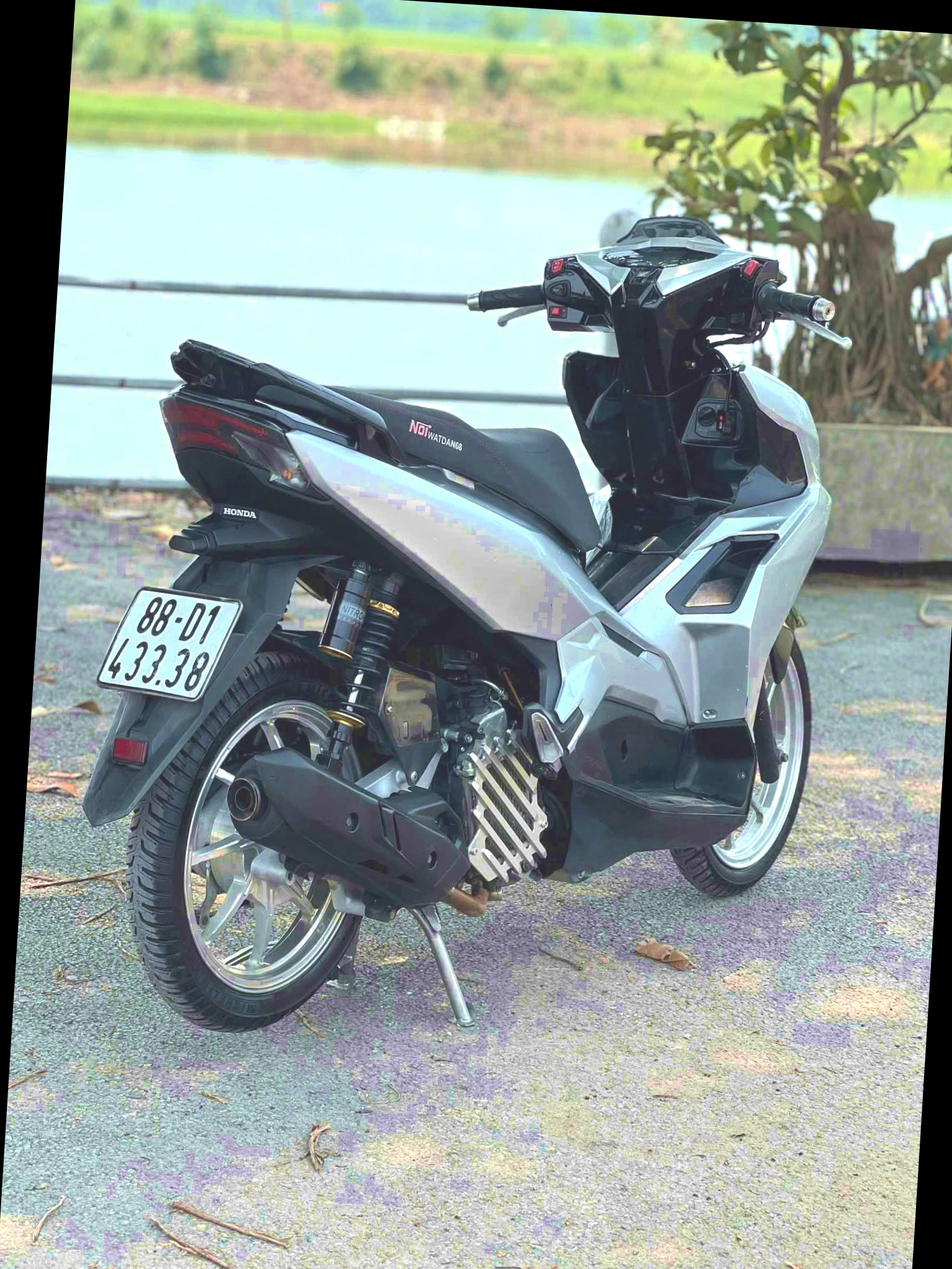Bien-so: (47, 549, 205, 667)
